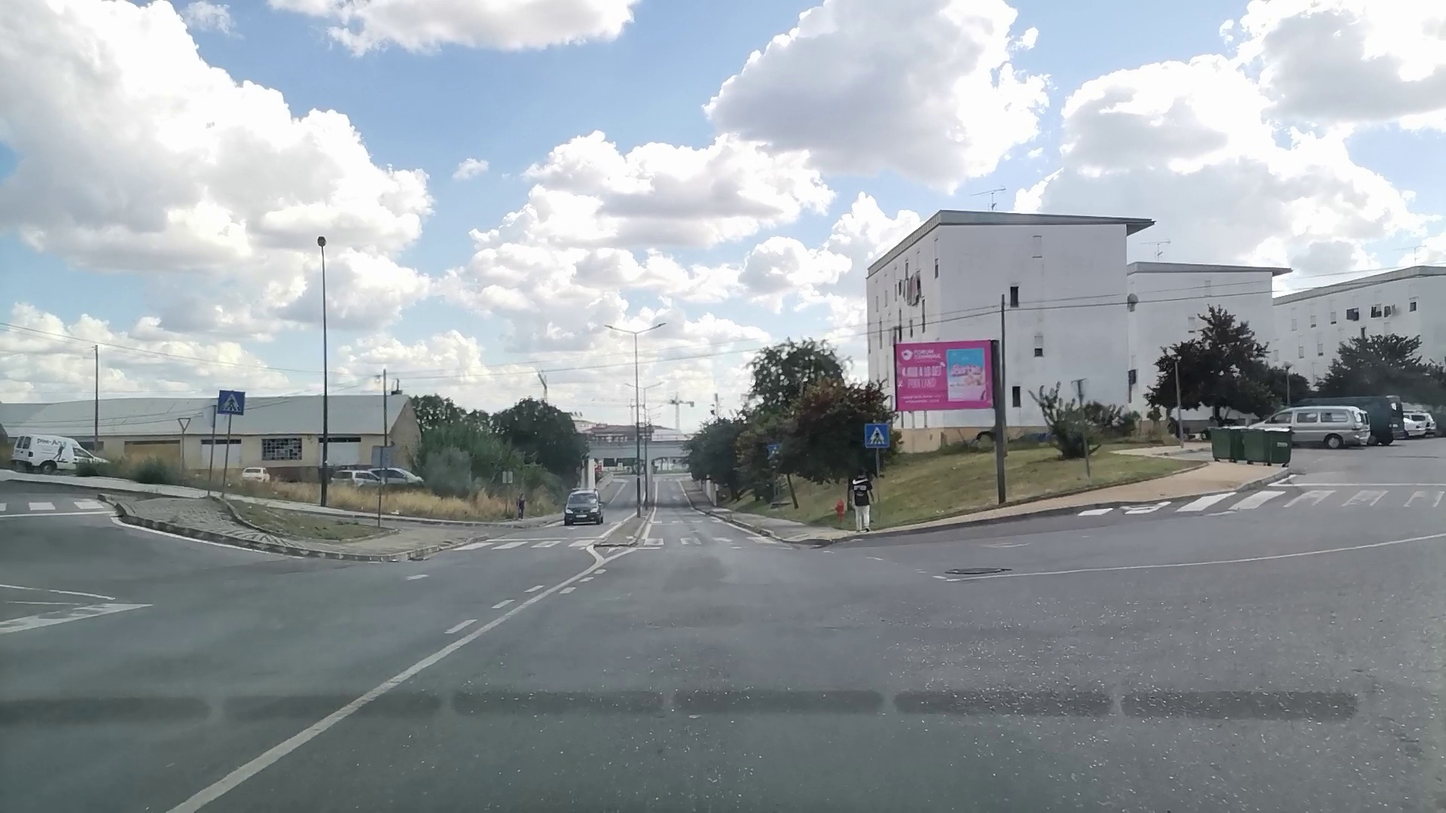Stairs: (1081, 483, 1446, 518), (453, 537, 594, 553), (645, 532, 787, 547)
